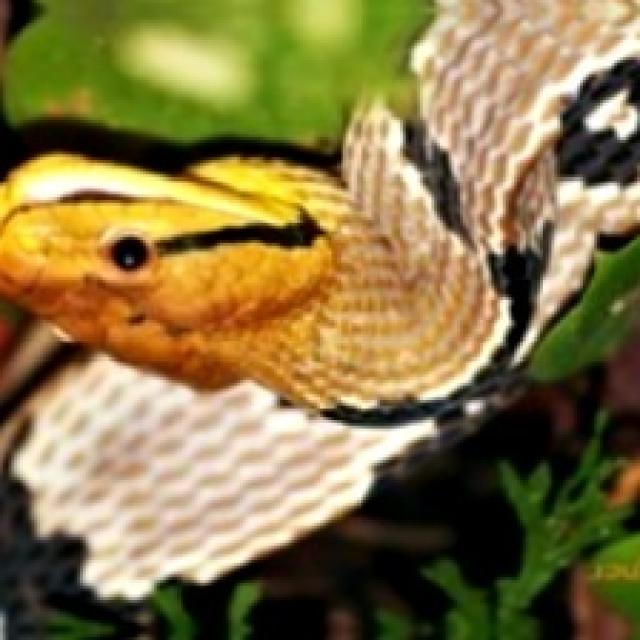dog-toothed cat snake: (0, 0, 637, 420), (34, 357, 286, 431)
